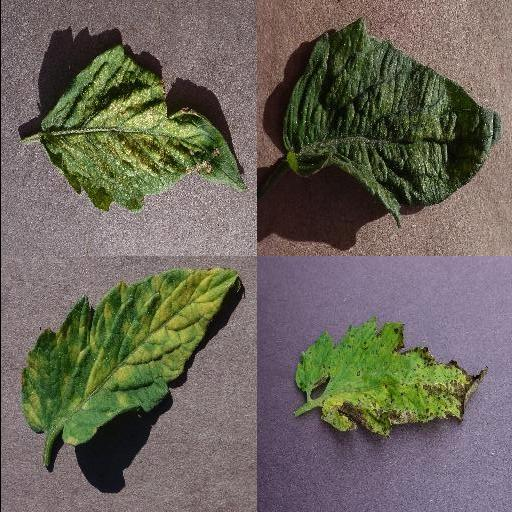Leaf Mold: (21, 269, 241, 447)
Septoria: (293, 322, 487, 436)
Spider Mites: (283, 20, 501, 230), (39, 47, 247, 211)
